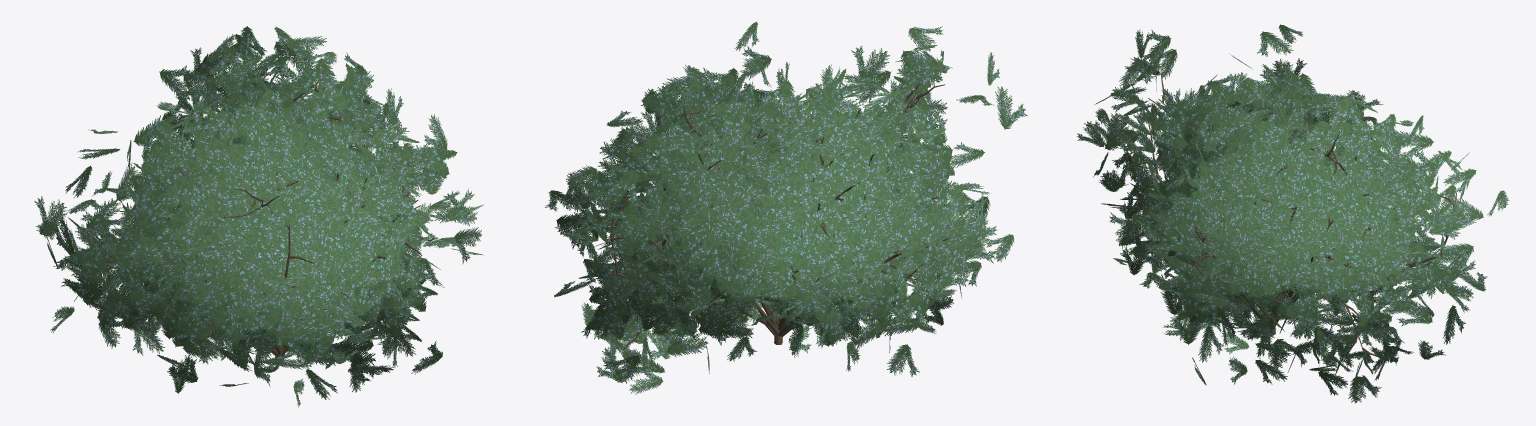
The model's file is RM1_Rosemary_SmallRound_0.6m.glb.
3 renders of one model, left to right at view 1: azimuth 30°, elevation 25°; view 2: azimuth 150°, elevation 25°; view 3: azimuth 270°, elevation 25°, orthographic. The views are drawn at different scales.
Parts seen in each view (by area): view 1: RM1_leaves, RM1_wood; view 2: RM1_leaves, RM1_wood; view 3: RM1_leaves, RM1_wood.
Boxes of the visible parts, left/top/right/bottom form: RM1_leaves: left=34, top=26, right=483, bottom=407; RM1_wood: left=102, top=61, right=438, bottom=360; RM1_leaves: left=545, top=21, right=1027, bottom=394; RM1_wood: left=606, top=81, right=948, bottom=349; RM1_leaves: left=1077, top=24, right=1509, bottom=403; RM1_wood: left=1126, top=74, right=1457, bottom=356.
Bounding box in the file's own units: 0.8463 × 0.6813 × 0.9039.
2 materials, 2 textured.
